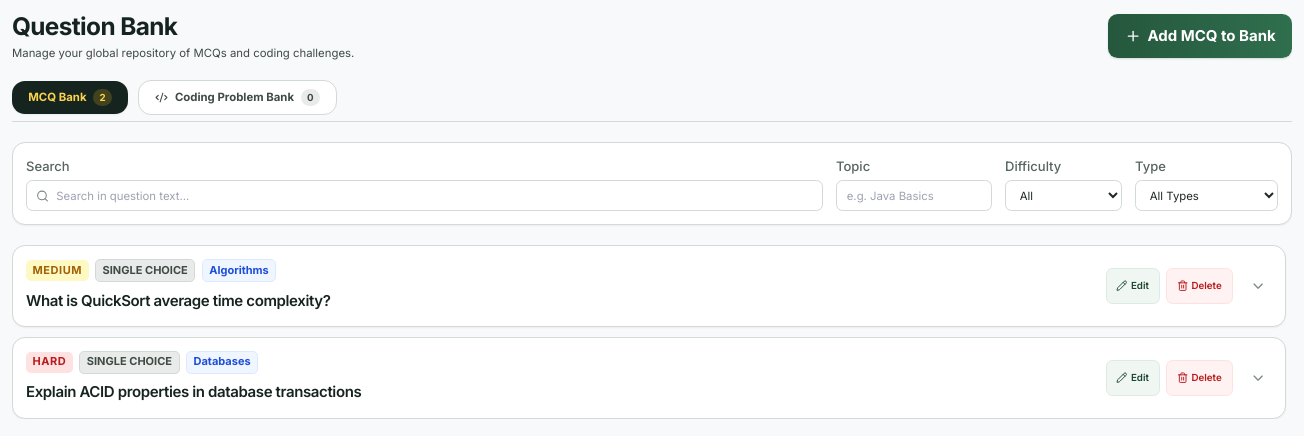
Scenario: Batch 2: Host Portal Comprehensive Automated Tests › Question Bank & Form Variants › renders populated question bank and searches by keyword
This screenshot has width=1304, height=436.
Expected: the heading "What is QuickSort average time complexity?" is shown, left=26, top=290, right=330, bottom=310
Expected: the heading "Explain ACID properties in database transactions" is shown, left=26, top=382, right=361, bottom=401
Filter by search keyword
In the field with placeholder "Search in question text...": (424, 196) left=26, top=180, right=823, bottom=211, type "QuickSort"
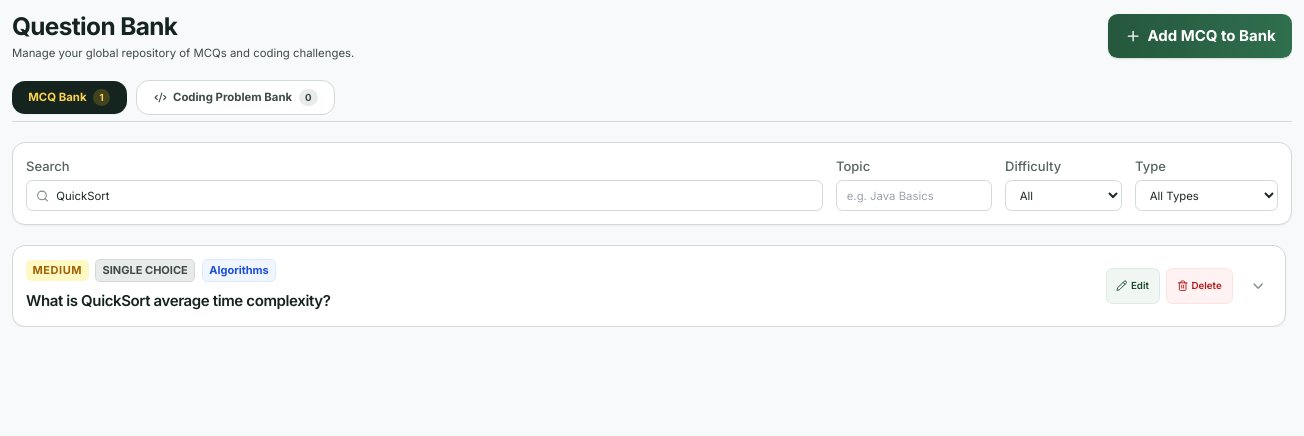
Expected: the heading "What is QuickSort average time complexity?" is shown, left=26, top=290, right=330, bottom=310
Result: the heading "ACID properties" is gone
